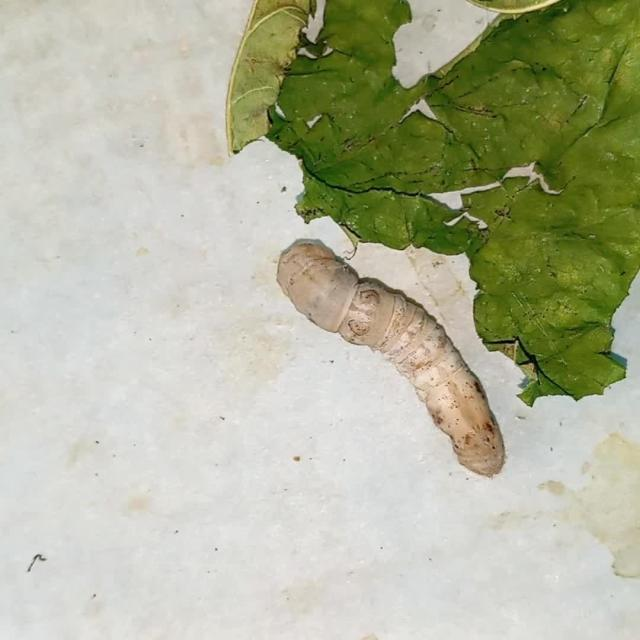Grasserie: (243, 188, 540, 506)
